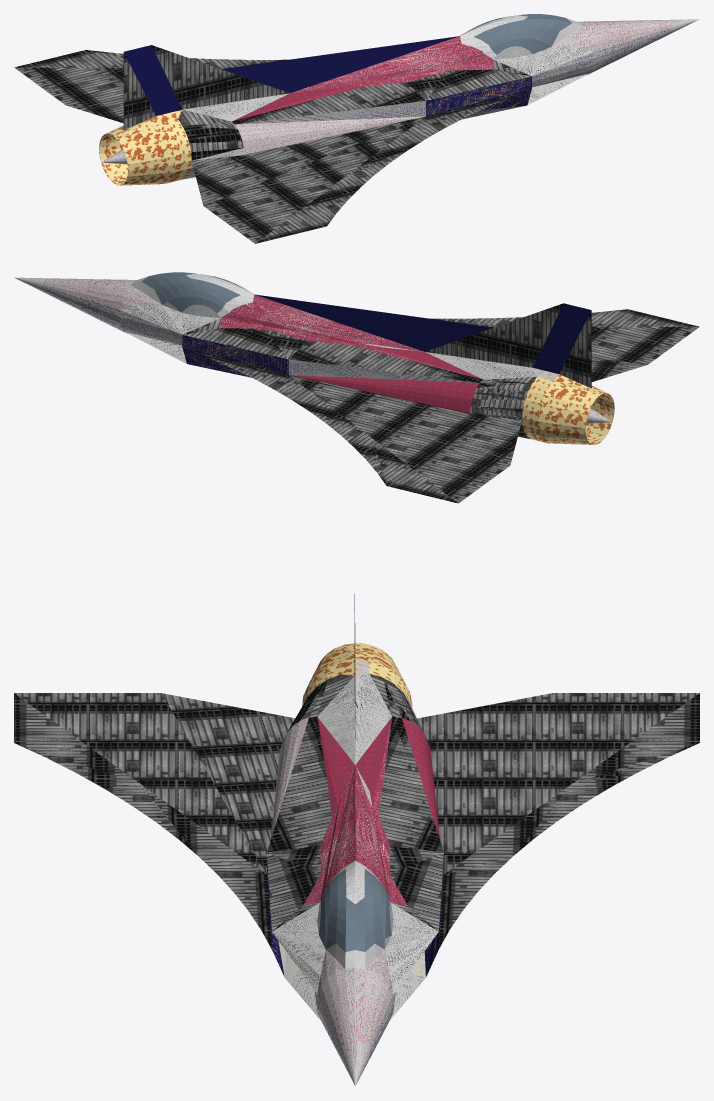
The picture shows the model from 3 angles, top to bottom: view 1: azimuth 30°, elevation 25°; view 2: azimuth 150°, elevation 25°; view 3: azimuth 270°, elevation 25°; orthographic projection. The views are drawn at different scales.
Visible parts, largest first — view 1: mesh1_mesh1-geometry; view 2: mesh1_mesh1-geometry; view 3: mesh1_mesh1-geometry.
Part boxes in pixels (left/top/right/bottom): mesh1_mesh1-geometry: left=14, top=14, right=699, bottom=243; mesh1_mesh1-geometry: left=14, top=272, right=699, bottom=503; mesh1_mesh1-geometry: left=14, top=594, right=699, bottom=1086.
Size of the model in its own units: 0.807 by 0.1774 by 0.5633.
